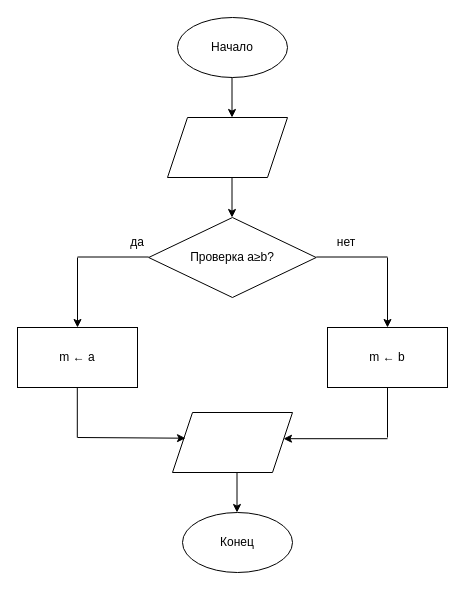
Image size: 465x590. Some labels were removed from this diagram. Here are the shapes that lost their labels. From the top down, the centre of each, then its label:
the point at 227,147: Ввод a, b
the point at 232,442: Вывод m
